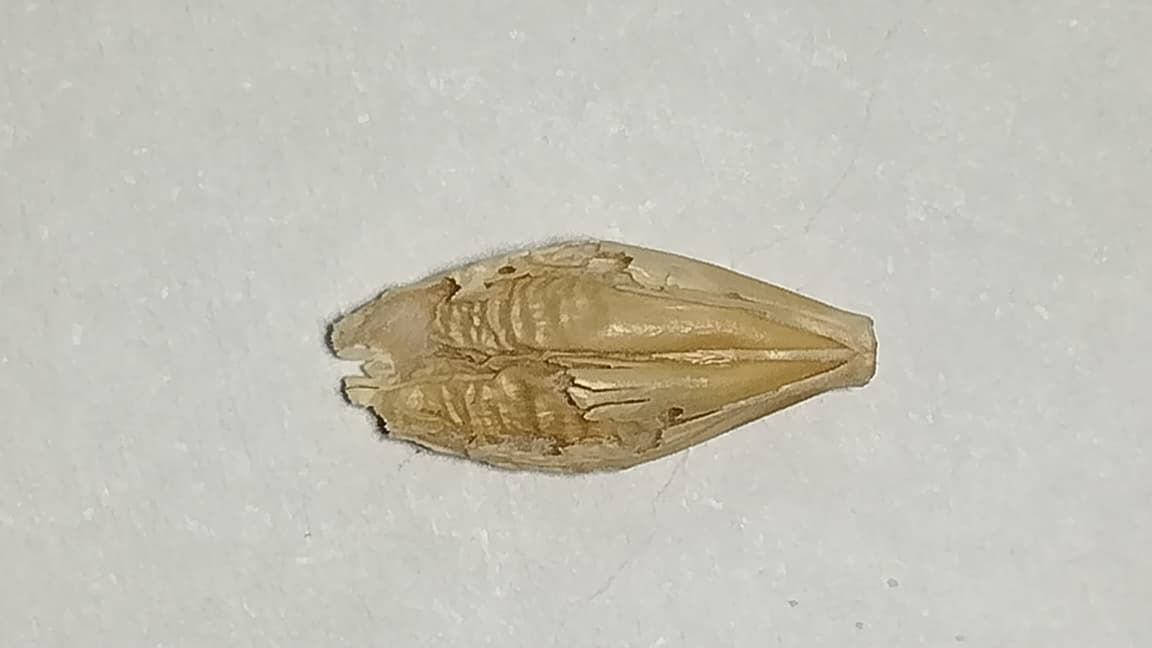damage: (330, 242, 874, 475)
insectdamage: (330, 281, 457, 397), (450, 237, 647, 301), (466, 429, 686, 479), (522, 282, 578, 306)
shriveledseed: (452, 294, 591, 438)
